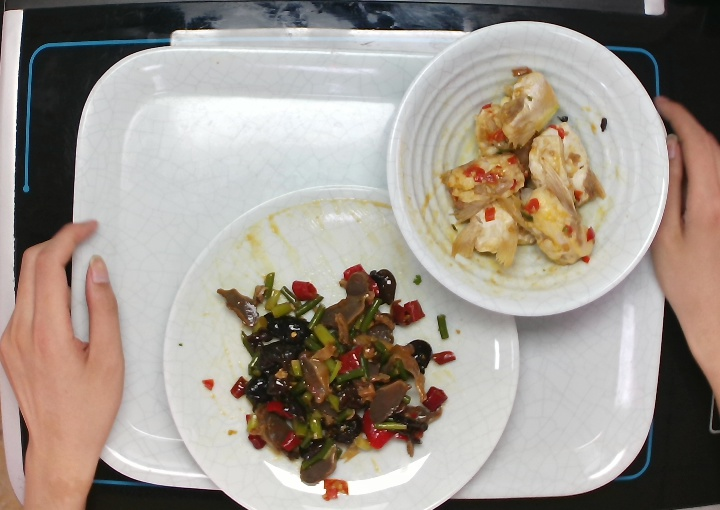JYsf-Da_Yuan_Pan: (159, 179, 523, 507)
JYsf-Xiao_Tang_Wan: (383, 16, 672, 319)
